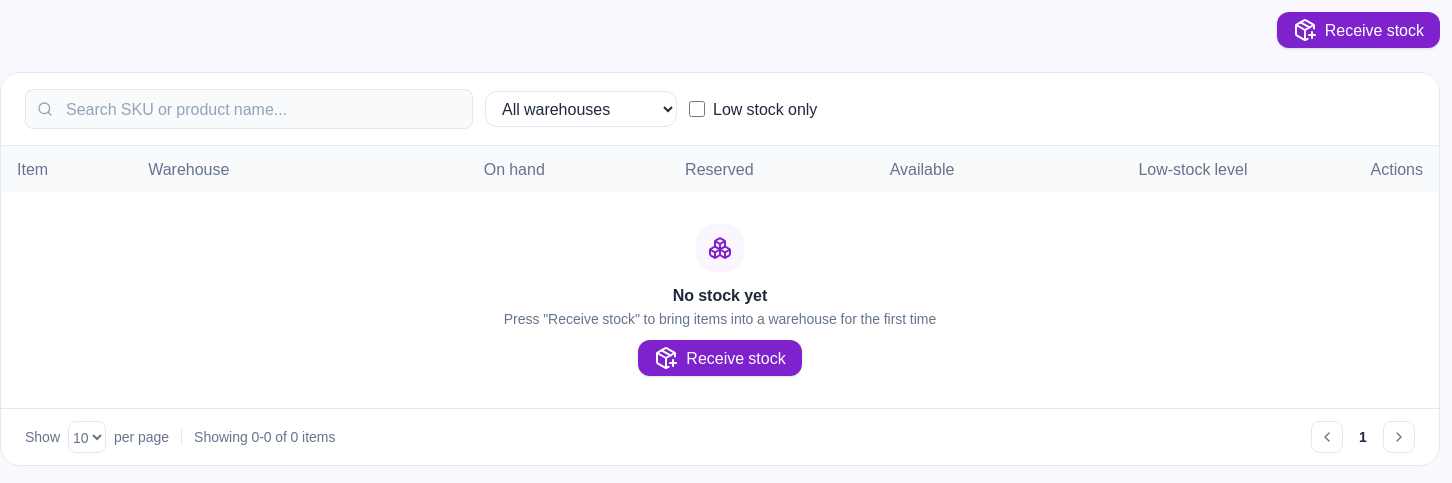
StockLevels › ວ່າງ ແລະ ມີສະເພາະ filter ສາງ: 'ບໍ່ພົບ' ແລະ ປຸ່ມລ້າງ filter
The width and height of the screenshot is (1452, 483).
Expected: the text "No stock yet" is shown, top-left (673, 282), bottom-right (767, 308)
Select "MAIN — Main" in the dropdown named "Warehouse": (581, 109) top-left (485, 91), bottom-right (677, 127)
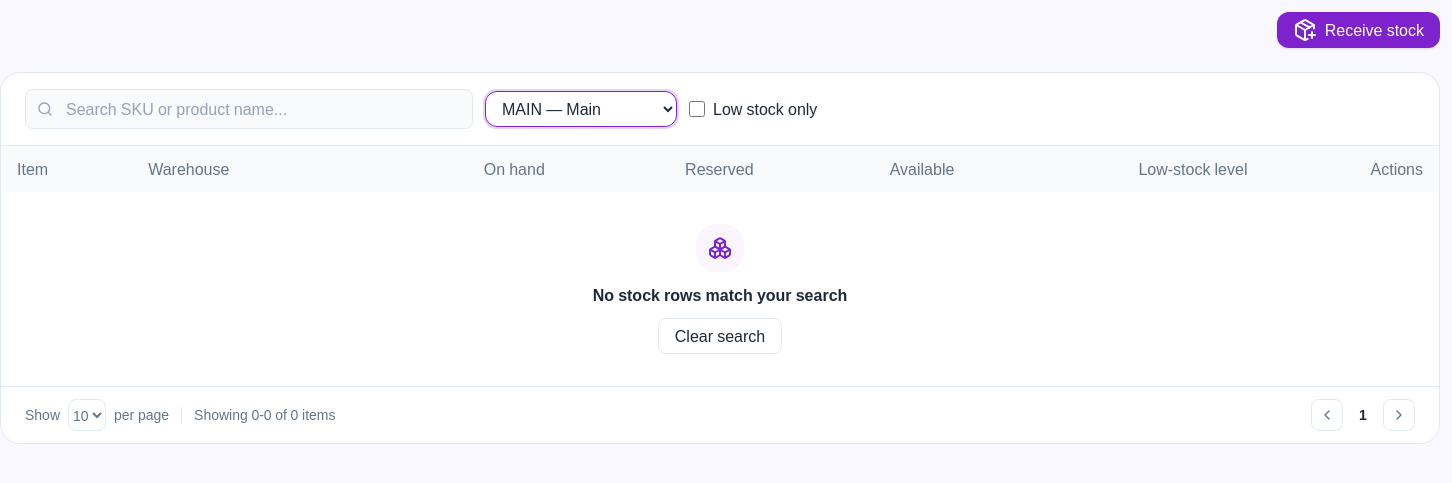
Now the text "No stock rows match your search" is shown, box top-left (593, 284), bottom-right (847, 306)
Now the text "No stock yet" is gone
Click the button "Clear search": (720, 336) top-left (658, 318), bottom-right (782, 354)
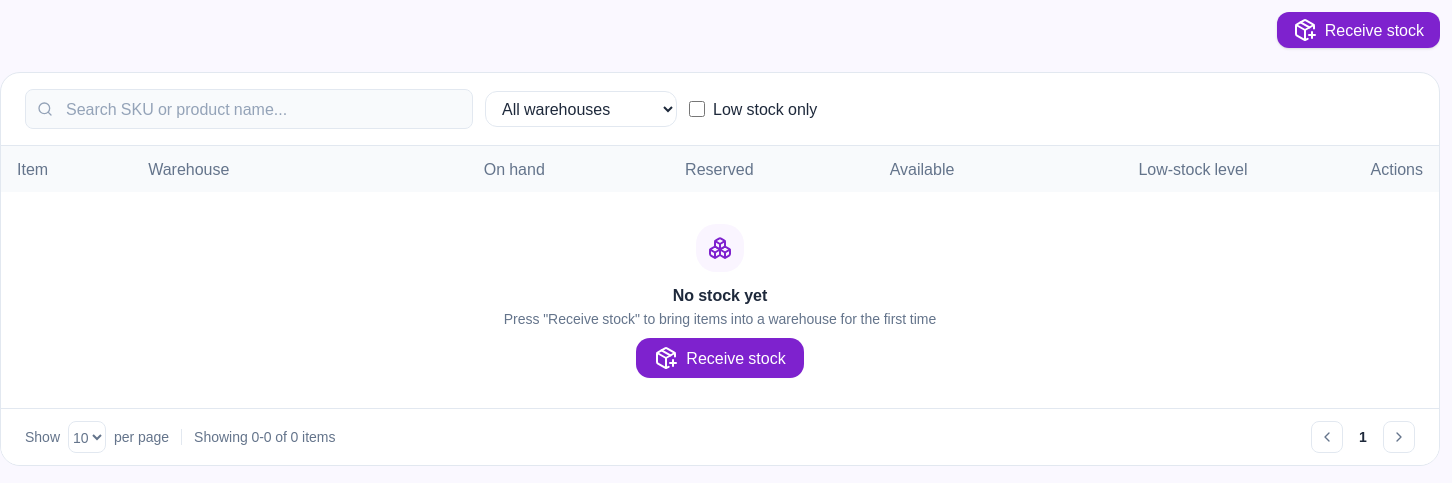
Now the text "No stock yet" is shown, box top-left (673, 282), bottom-right (767, 308)
